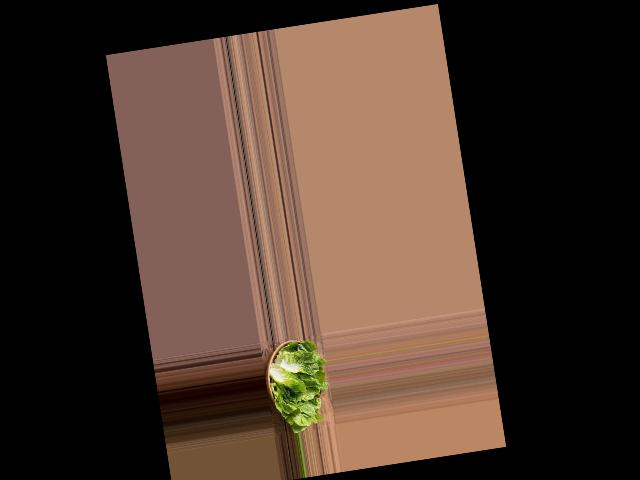lettuce: (260, 332, 332, 434)
